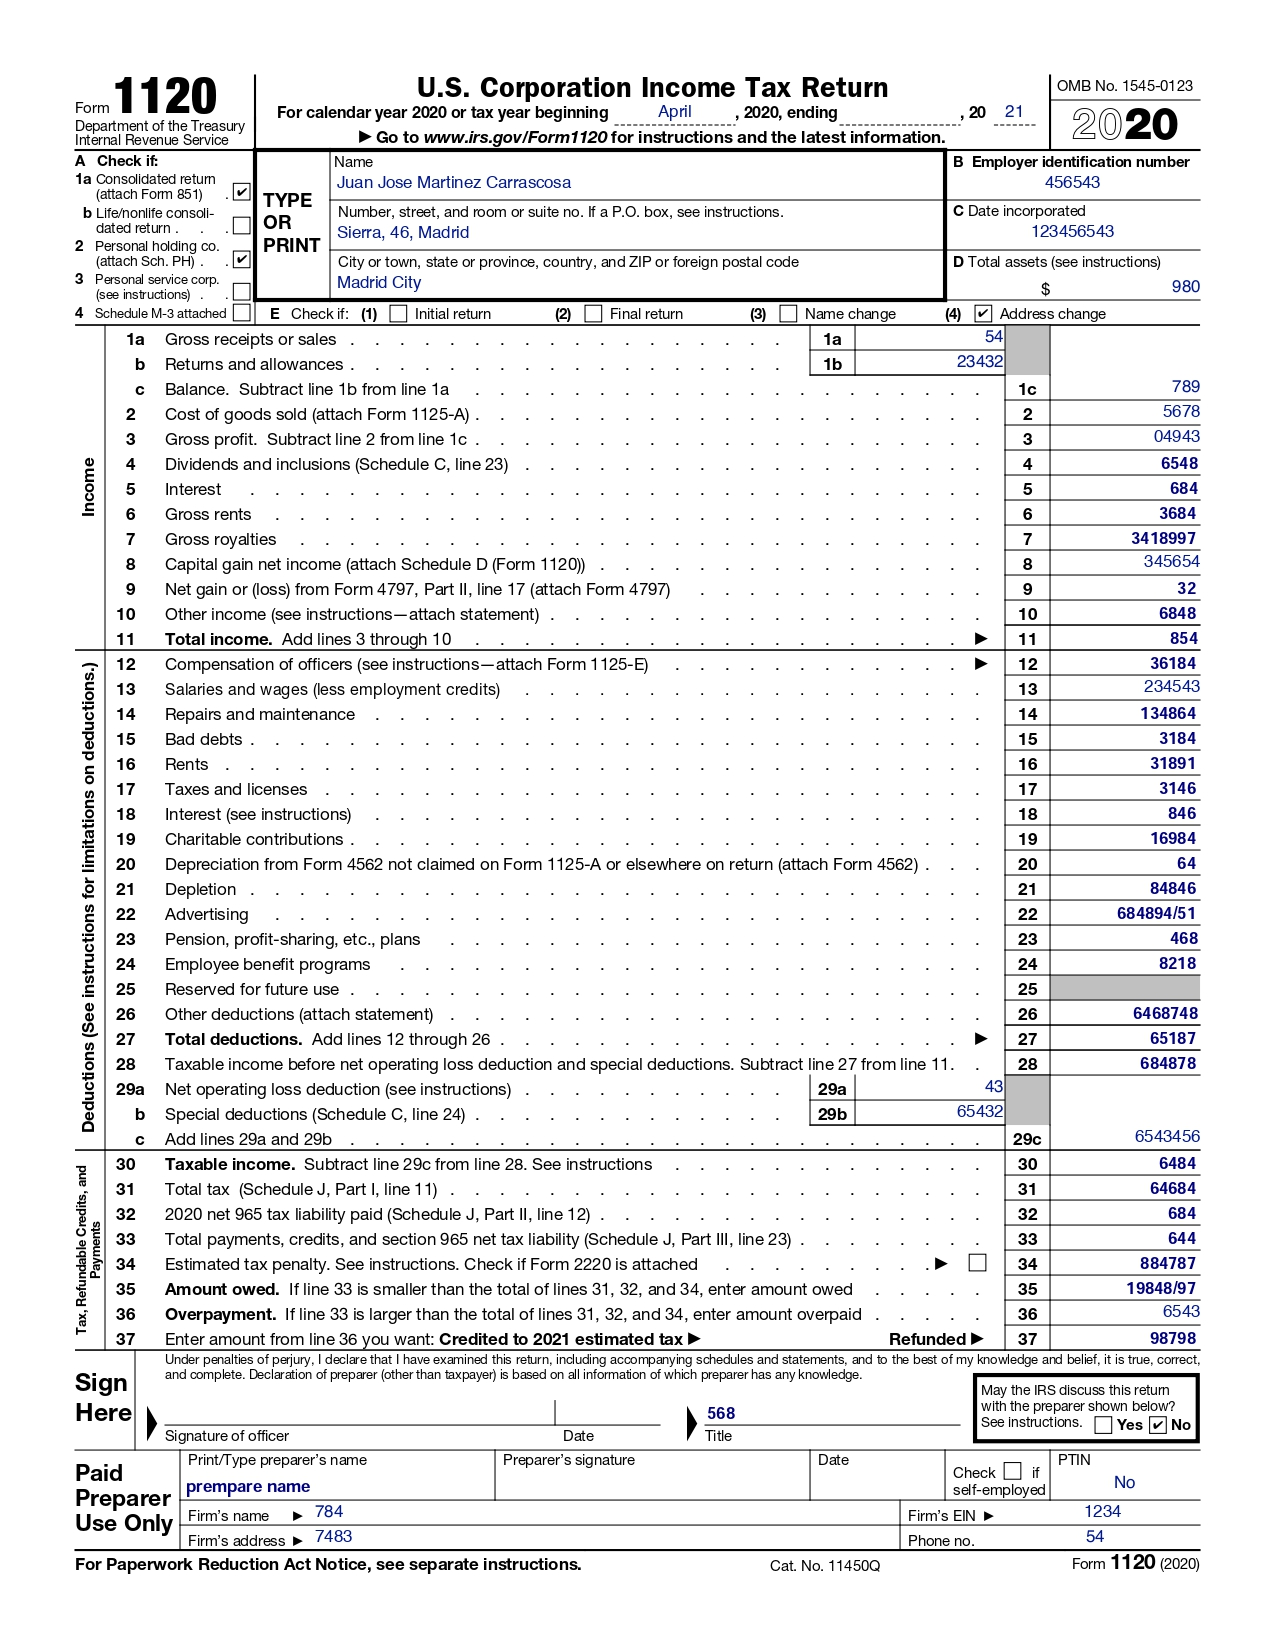form: (36, 43, 1222, 323), (33, 1352, 1216, 1552)
table: (46, 321, 1222, 1352)
